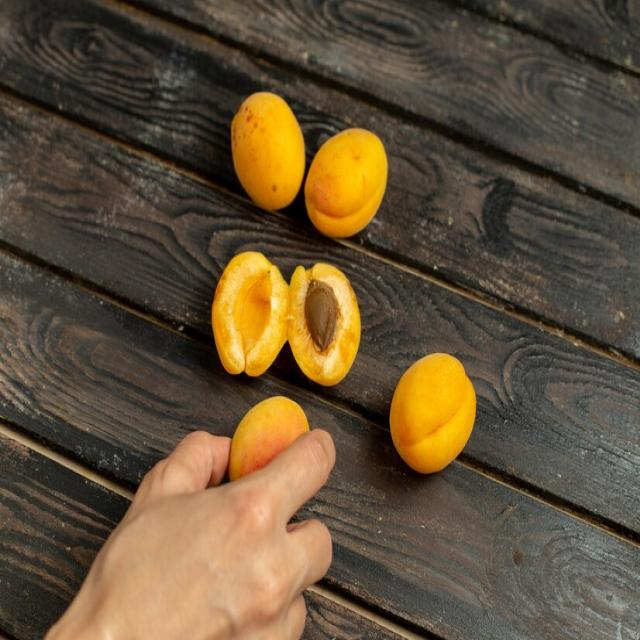kayisi: (388, 346, 477, 477), (305, 123, 391, 244), (209, 248, 288, 373), (230, 86, 303, 210), (289, 261, 362, 384), (230, 394, 313, 494)
kayisi cekirdegi: (305, 280, 340, 349)
